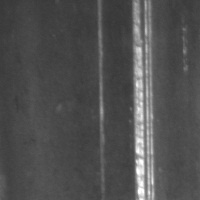scratches: (129, 1, 159, 200), (93, 1, 109, 200)
